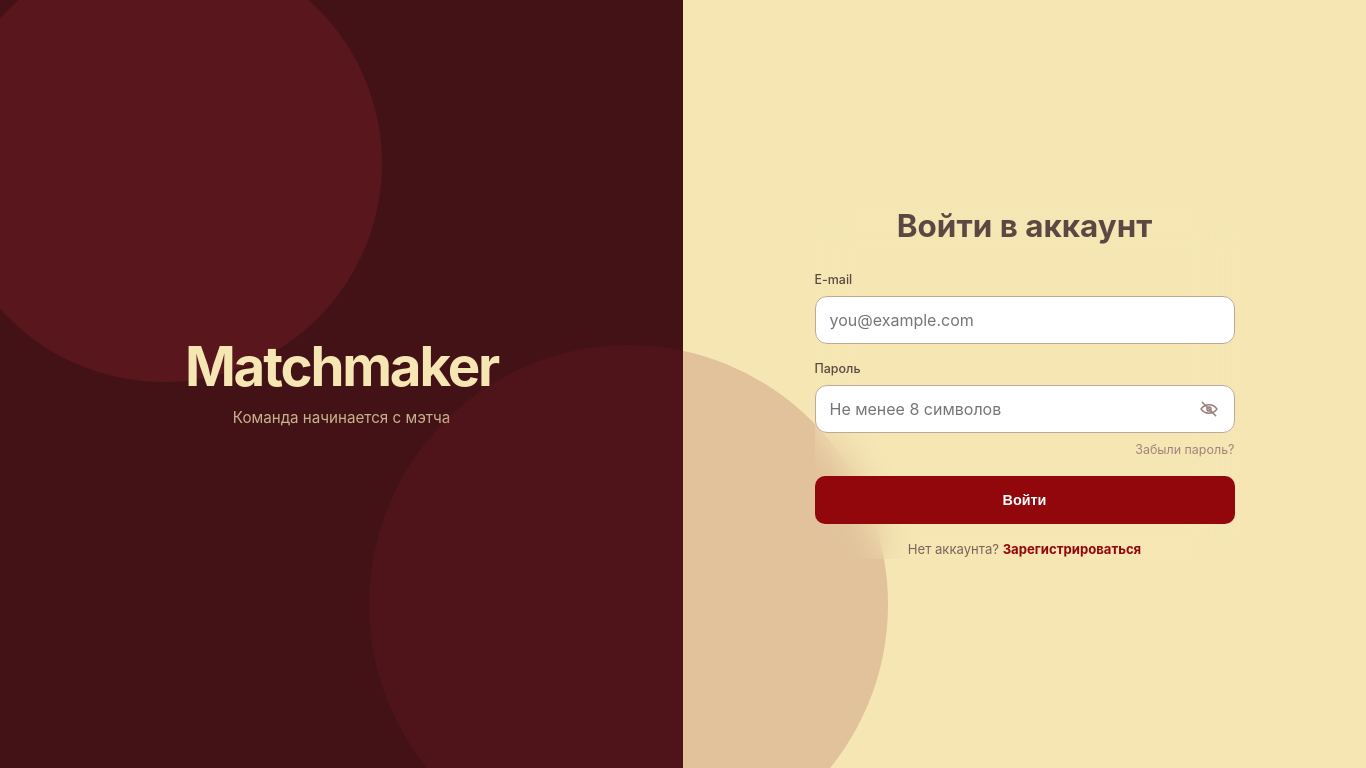
it: auth pages › shows validation errors on the login form
The image size is (1366, 768).
Click the button "Войти".
click(1024, 500)  # box [814,476,1234,524]
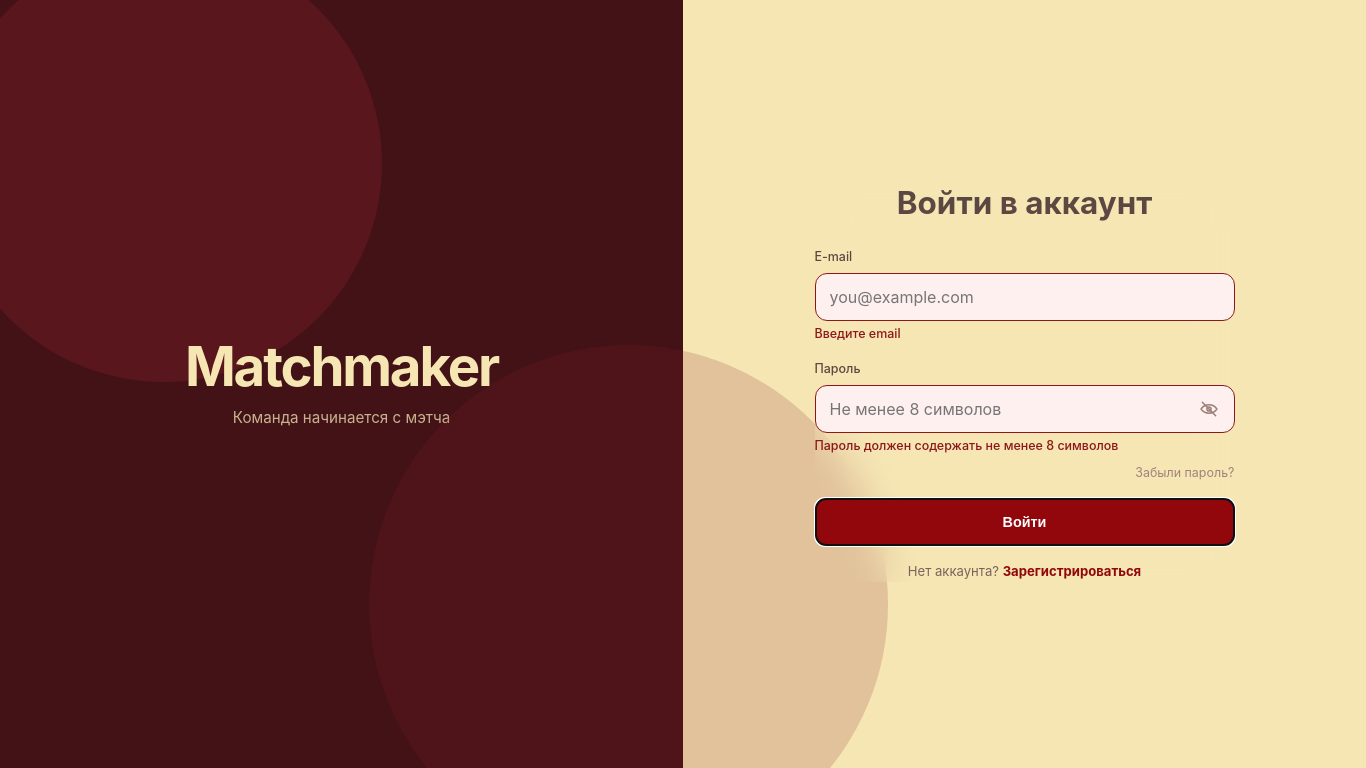
Expected: the text "Введите email" is shown, [814,326,901,341]
